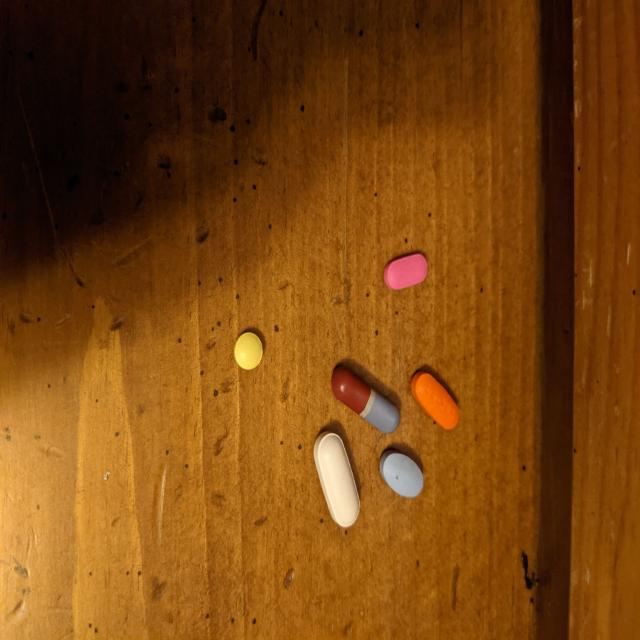non-organic waste: (330, 363, 402, 435), (312, 430, 362, 529), (410, 368, 460, 431), (378, 447, 425, 498), (383, 251, 428, 291), (233, 330, 264, 372)
